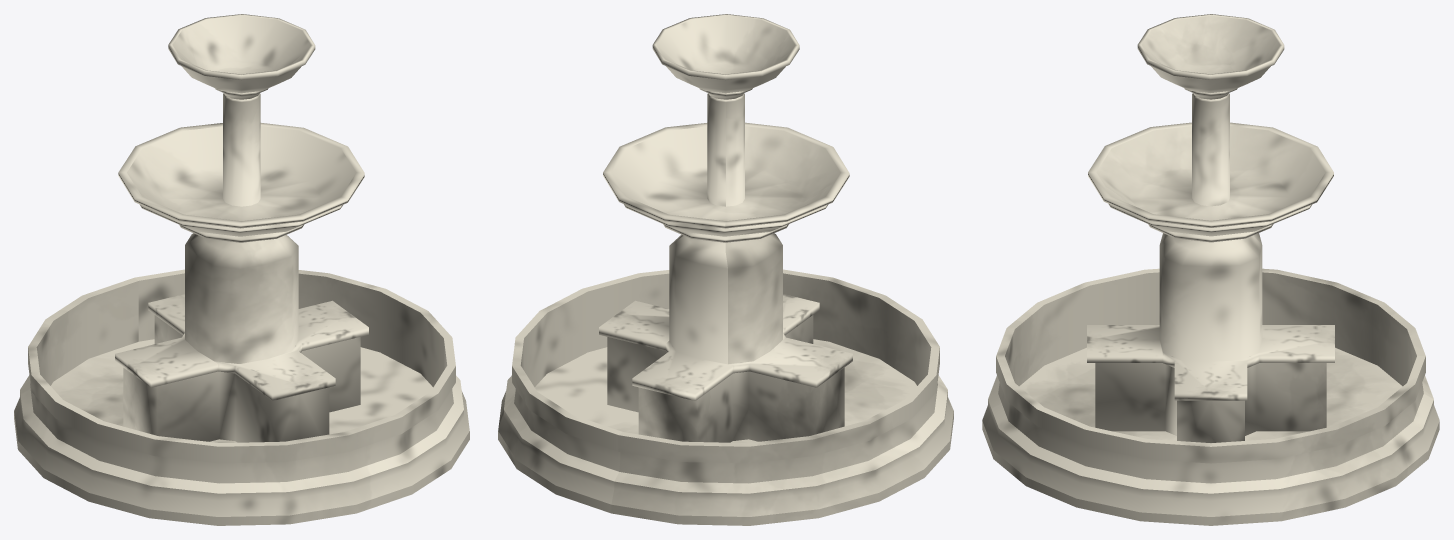
The model's file is fountain.fbx.
3 views of the same model, side by side, from view 1: azimuth 30°, elevation 25°; view 2: azimuth 150°, elevation 25°; view 3: azimuth 270°, elevation 25° (orthographic).
Visible parts, largest first — view 1: fountain; view 2: fountain; view 3: fountain.
Part boxes in pixels (x1,y1,x2,y2): fountain: (14, 14, 469, 525); fountain: (498, 14, 953, 525); fountain: (982, 14, 1439, 525).
Size of the model in its own units: 21.68 by 20.08 by 21.68.
1 material, 1 textured.
